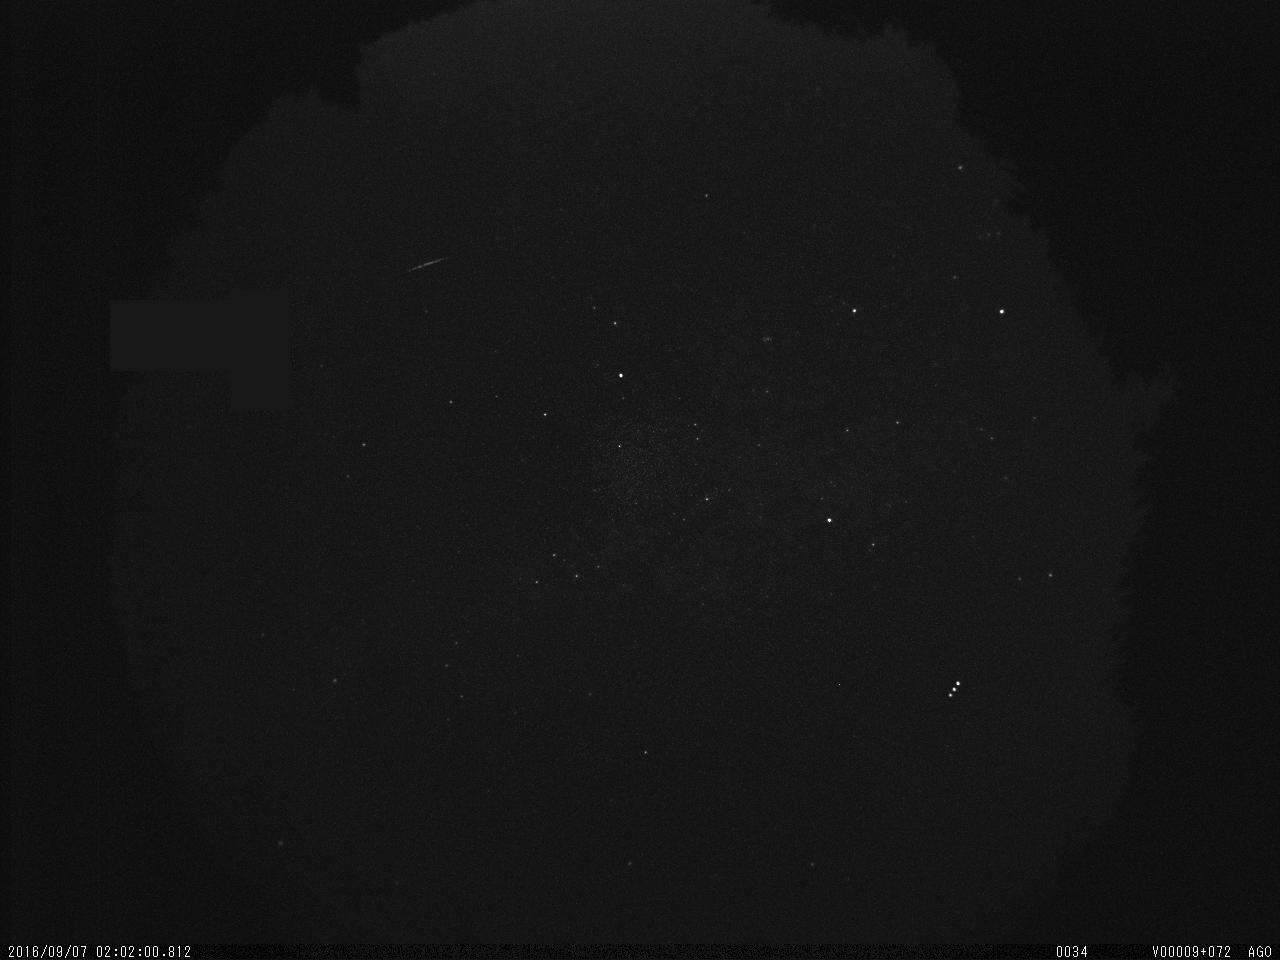meteor: (393, 246, 471, 280)
satelite: (937, 673, 968, 709)
